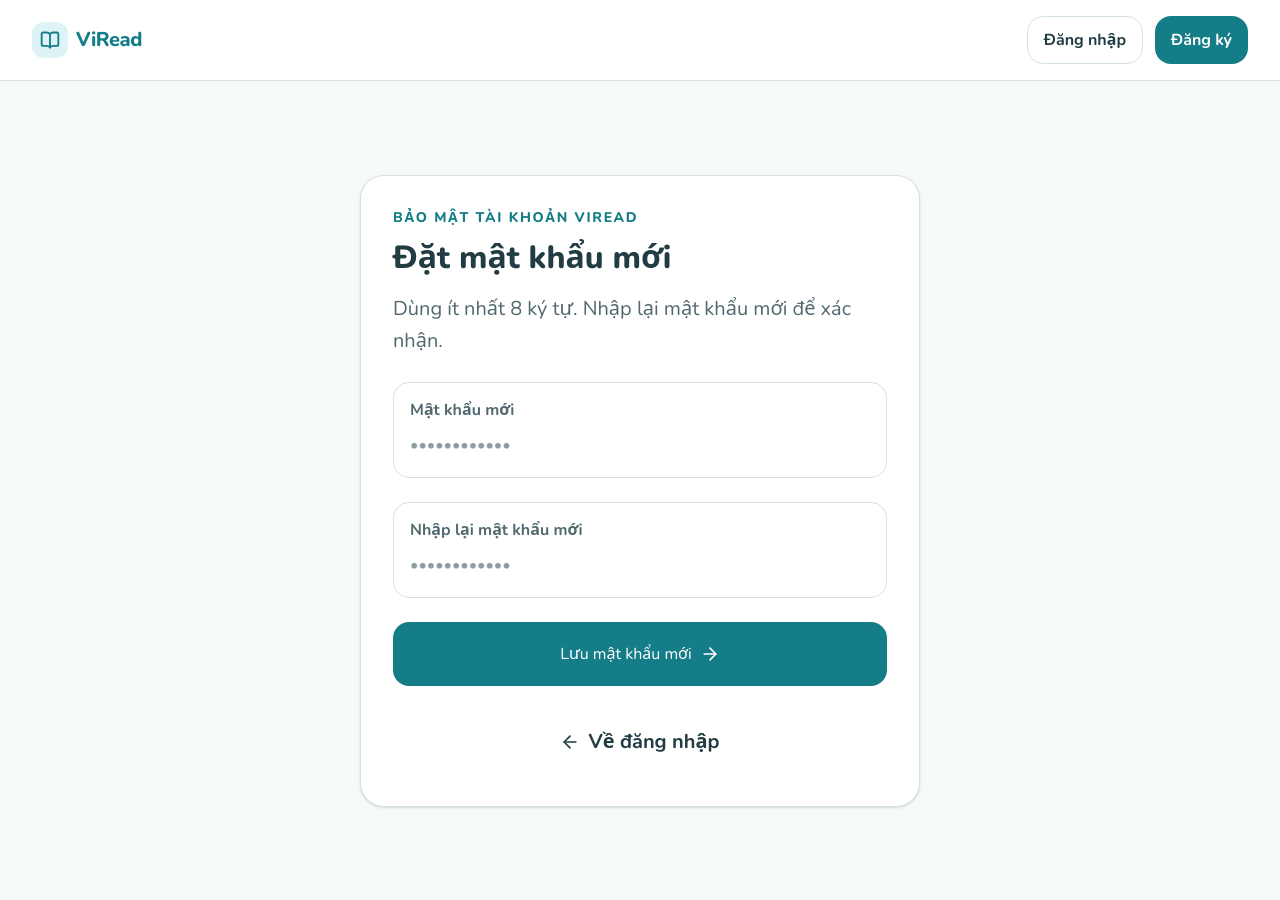
Test: ResetPasswordScreen › maps a live invalid-recovery-context failure to the recovery screen
Type "matkhau123" into the password field labelled "Mật khẩu mới" at (640, 445), box [410, 429, 870, 461]
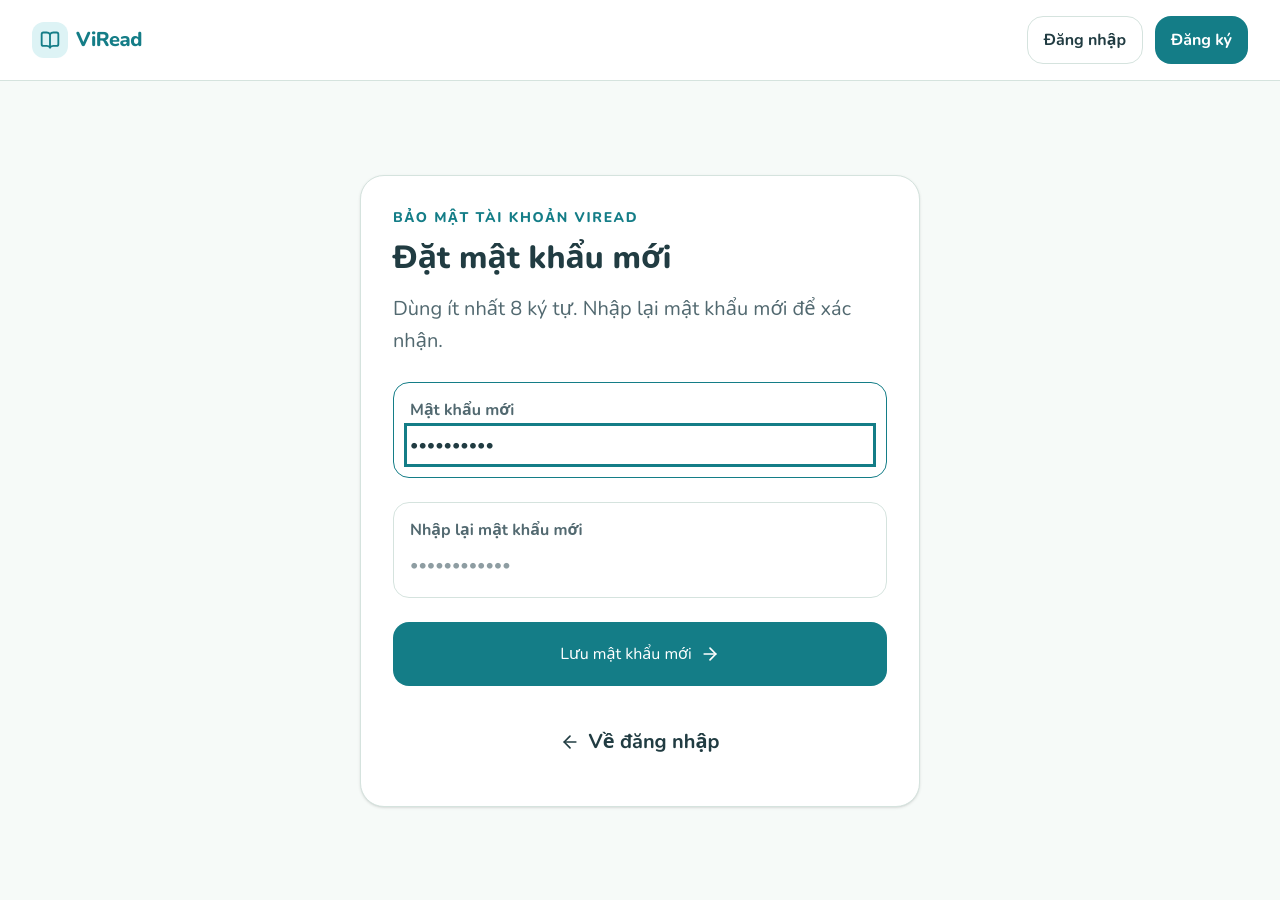
Type "matkhau123" into the password field labelled "Nhập lại mật khẩu mới" at (640, 565), box [410, 549, 870, 581]
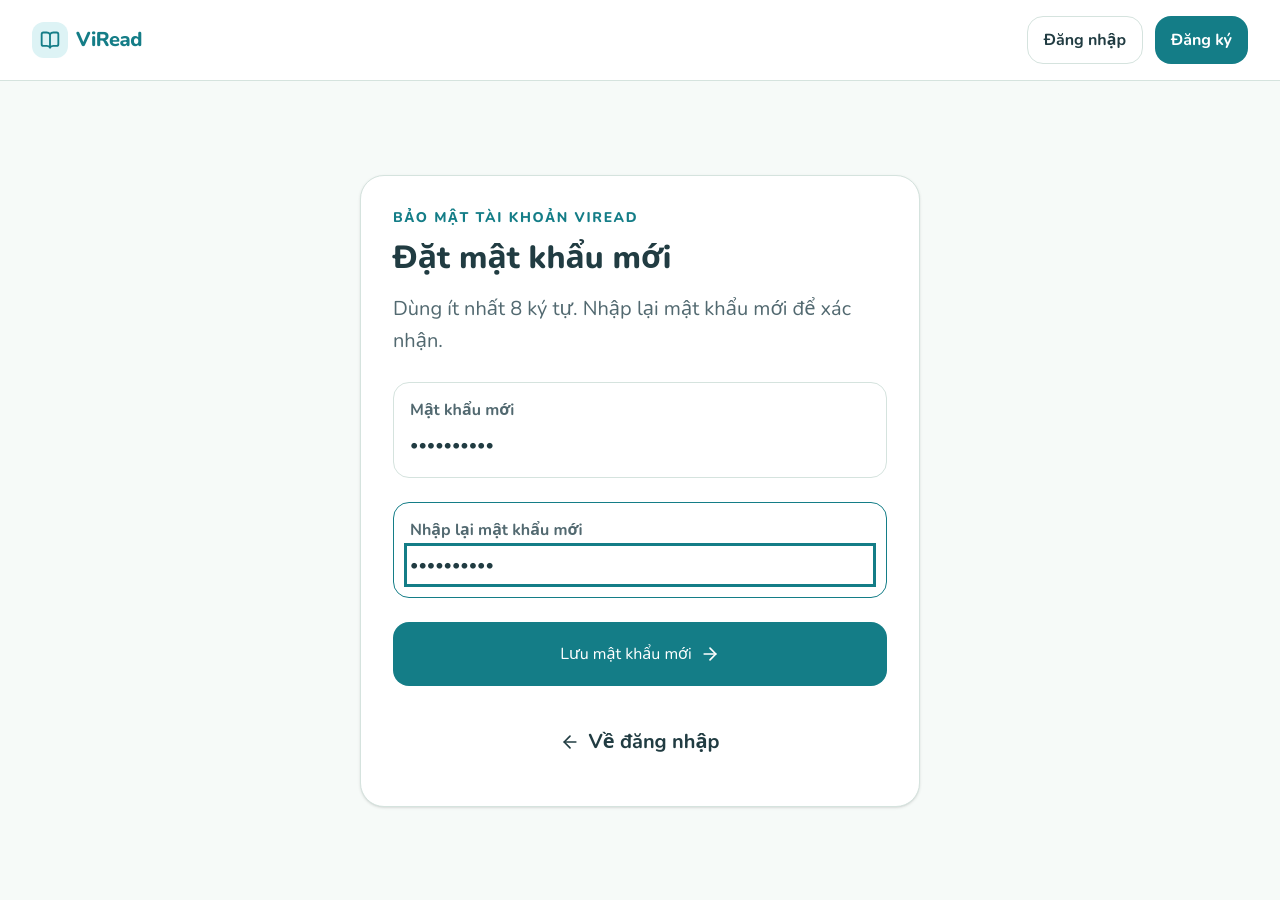
Click the button "Lưu mật khẩu mới" at (640, 654), box [393, 622, 887, 686]
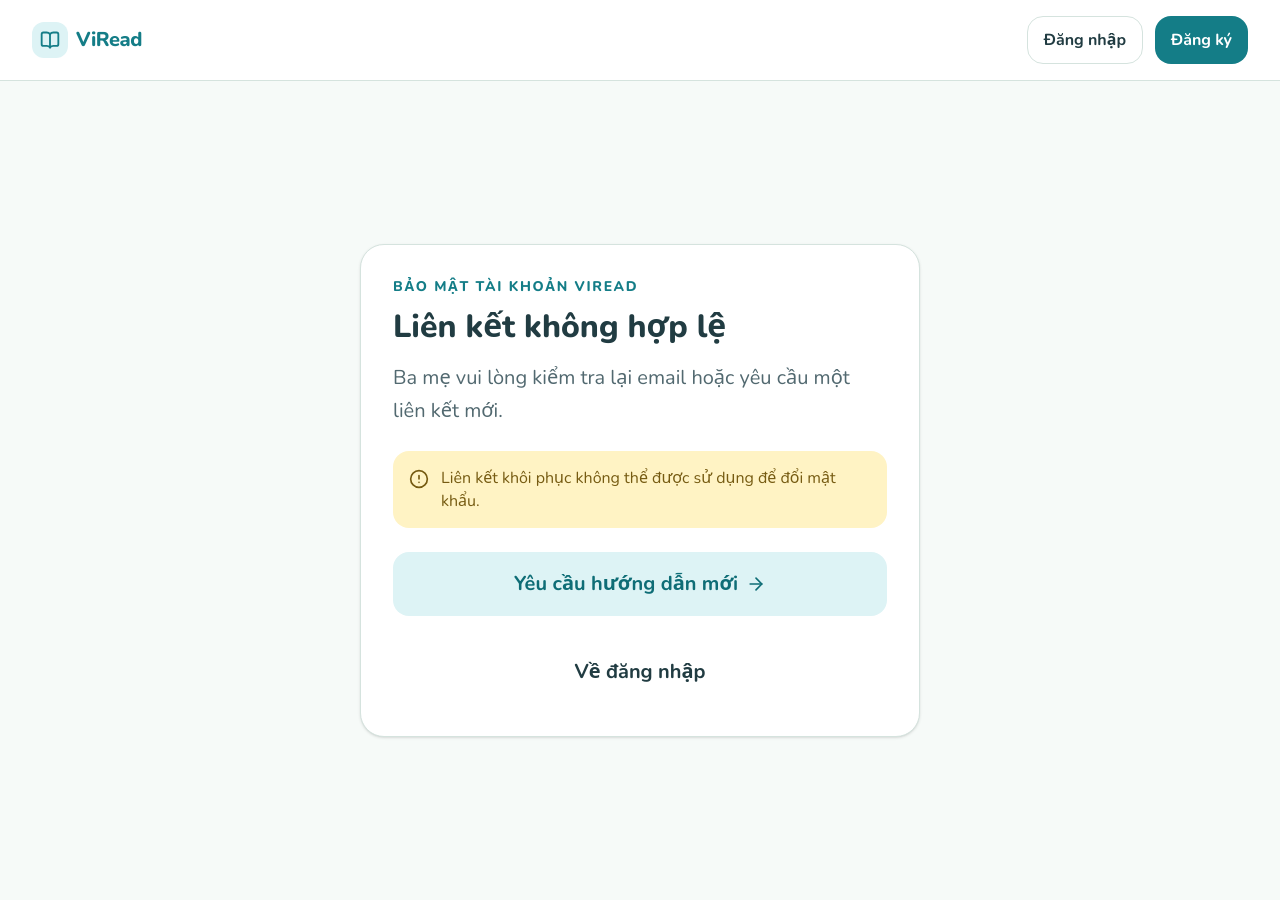
expect the heading "Liên kết không hợp lệ" is shown: met, box [393, 305, 726, 348]
